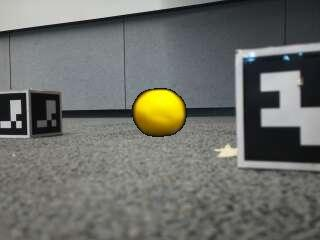lemon: (135, 89, 186, 137)
